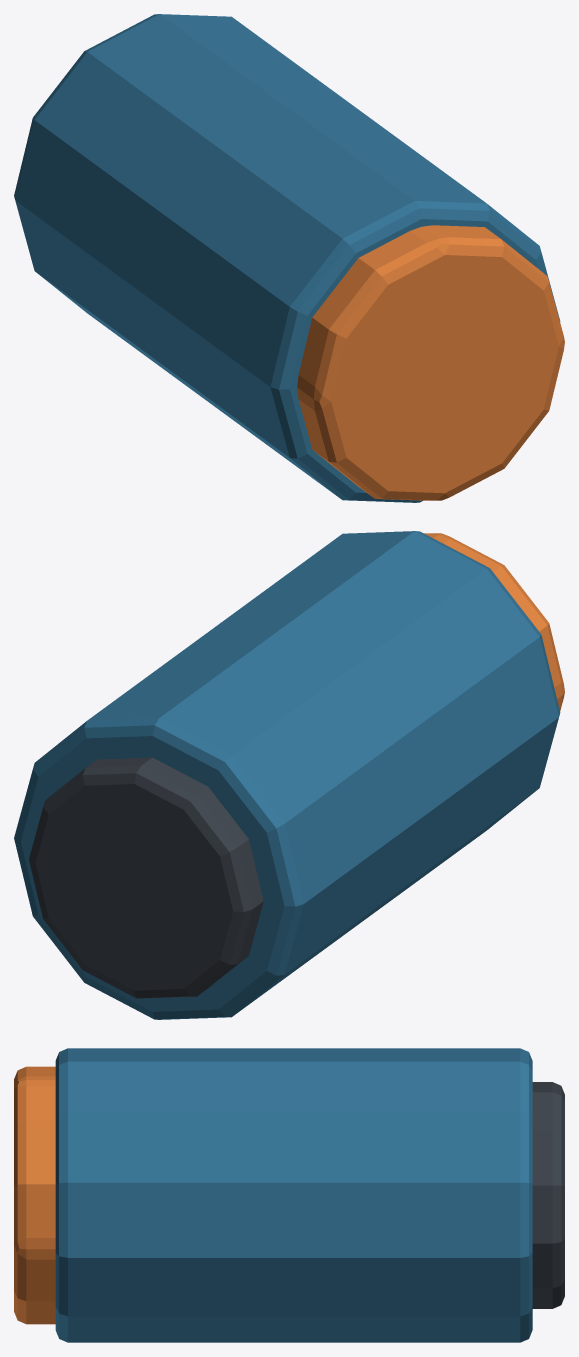
File: EngineNacelle.fbx
The picture shows the model from 3 angles, top to bottom: view 1: azimuth 30°, elevation 25°; view 2: azimuth 150°, elevation 25°; view 3: azimuth 270°, elevation 25°; orthographic projection. The views are drawn at different scales.
Visible parts, largest first — view 1: NacelleBody_RENDER, NacelleRear_RENDER; view 2: NacelleBody_RENDER, NacelleFront_RENDER, NacelleRear_RENDER; view 3: NacelleBody_RENDER, NacelleRear_RENDER, NacelleFront_RENDER.
Boxes of the visible parts, x1=… form: NacelleBody_RENDER: x1=14, y1=14, x2=560, y2=502; NacelleRear_RENDER: x1=297, y1=225, x2=564, y2=500; NacelleBody_RENDER: x1=14, y1=531, x2=560, y2=1019; NacelleFront_RENDER: x1=29, y1=757, x2=263, y2=998; NacelleRear_RENDER: x1=424, y1=533, x2=564, y2=711; NacelleBody_RENDER: x1=55, y1=1048, x2=532, y2=1342; NacelleRear_RENDER: x1=14, y1=1066, x2=55, y2=1324; NacelleFront_RENDER: x1=532, y1=1082, x2=564, y2=1308.
Bounding box in the file's own units: 0.96 × 0.96 × 1.79.
